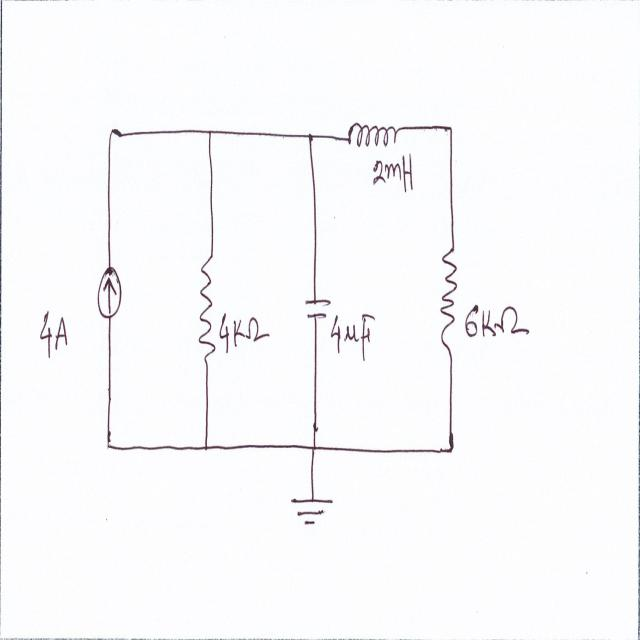capacitor: (302, 285, 332, 331)
current_source: (95, 256, 123, 324)
ground: (288, 488, 334, 531)
inductor: (346, 114, 401, 156)
resistor: (196, 246, 218, 365), (439, 235, 459, 348)
